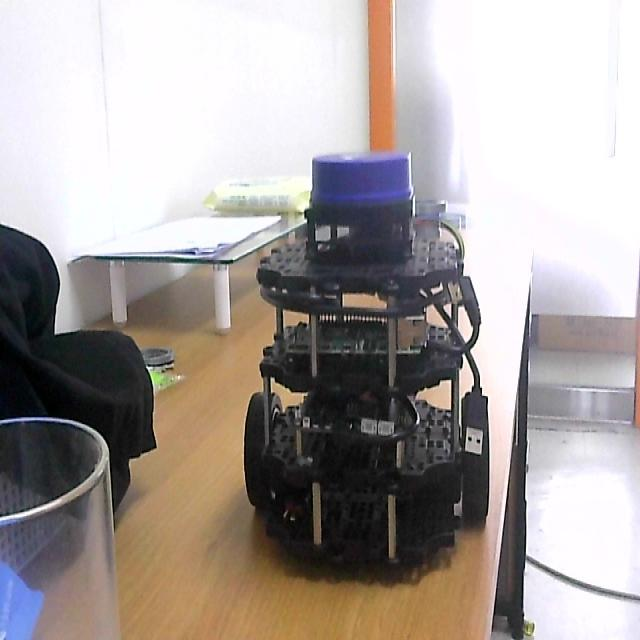turtle: (243, 149, 491, 584)
